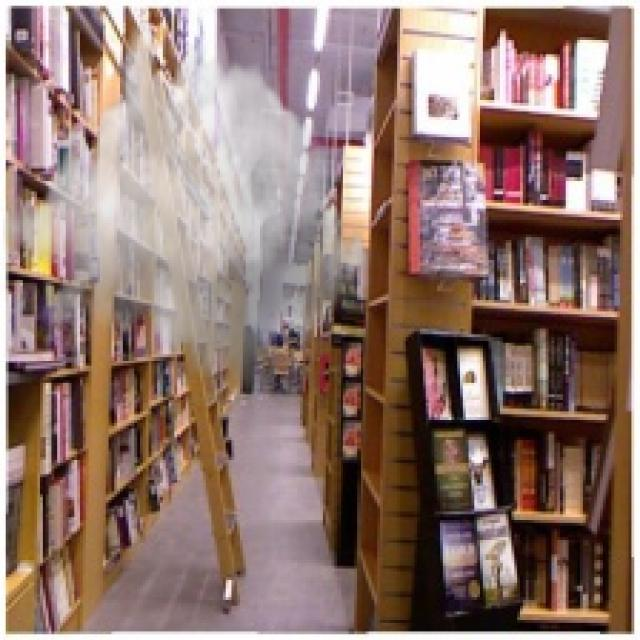smoke: (3, 20, 371, 403)
